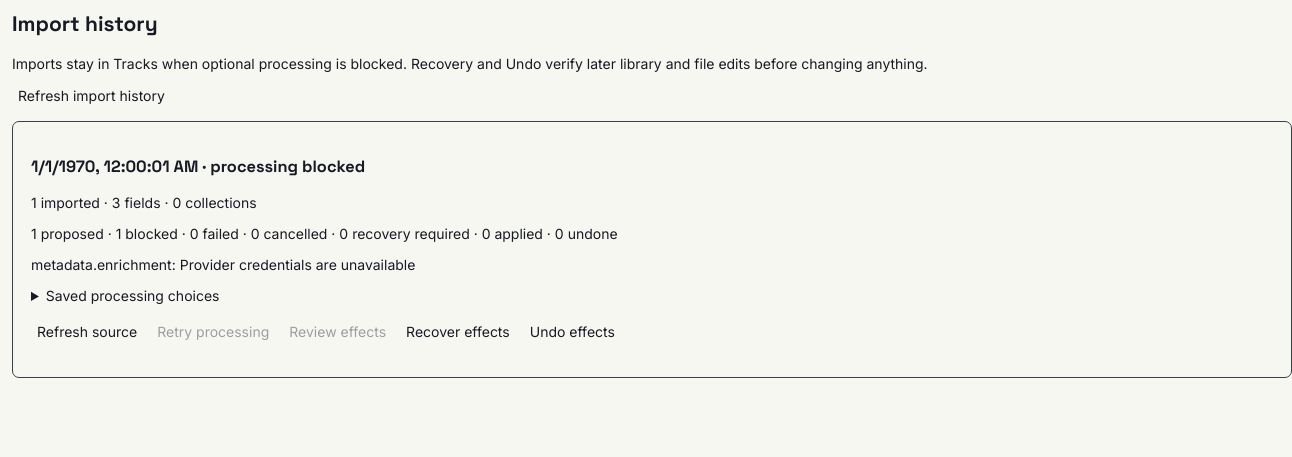
import refresh and recovery › recovery_and_undo_respect_later_edits
Click the button "Recover effects".
click(458, 331)  # box top-left (400, 322), bottom-right (516, 341)
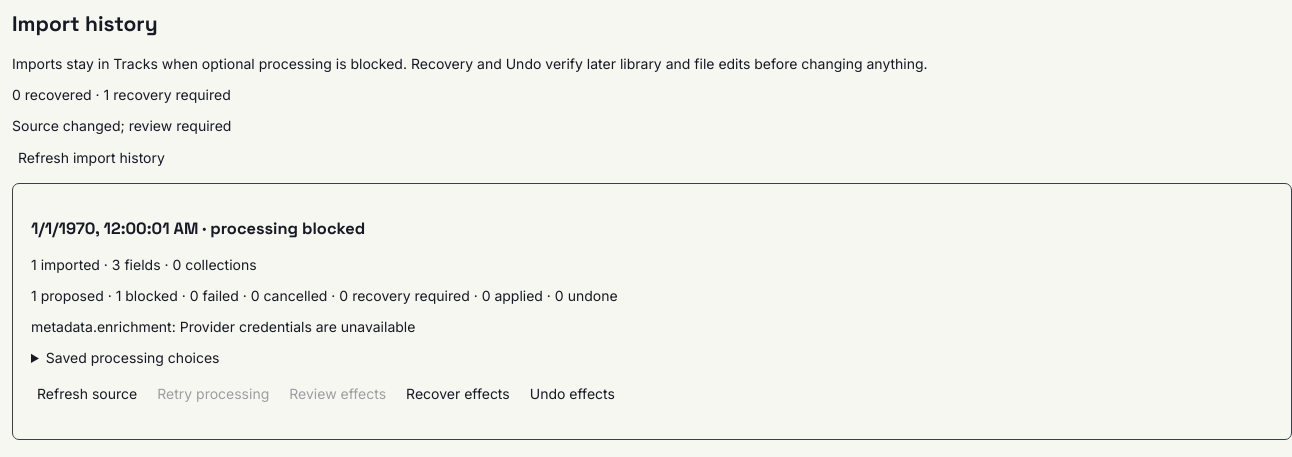
Result: the text "Source changed; review required" is shown at top-left (12, 117), bottom-right (231, 134)
Click the button "Undo effects".
click(572, 393)  # box top-left (524, 384), bottom-right (621, 403)
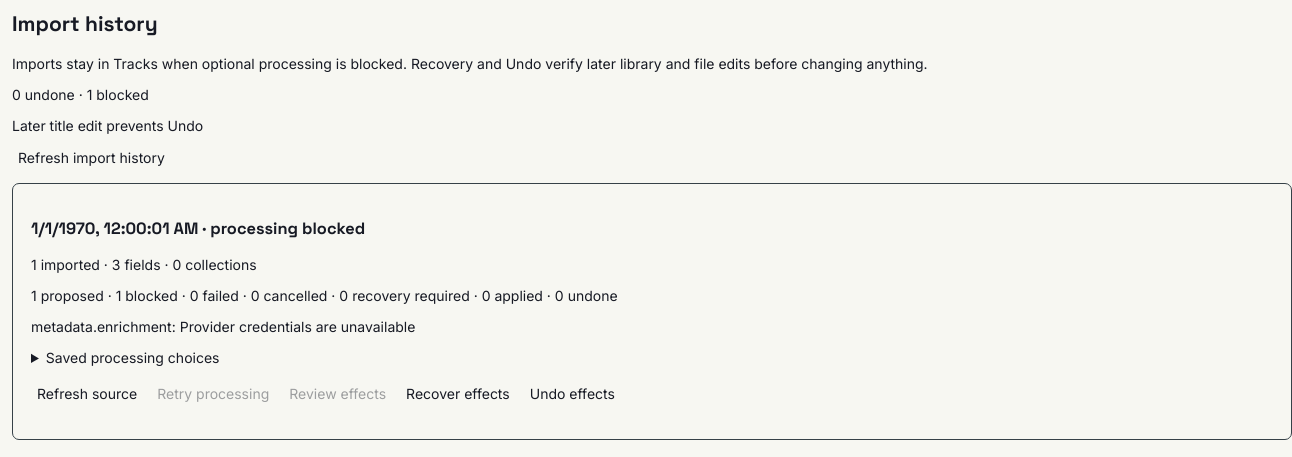
Result: the text "Later title edit prevents Undo" is shown at top-left (12, 117), bottom-right (203, 134)
